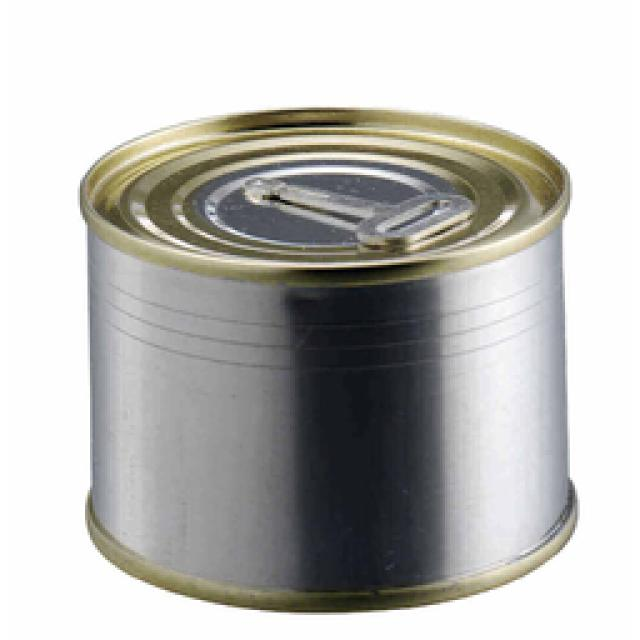alumunium: (80, 108, 575, 610)
